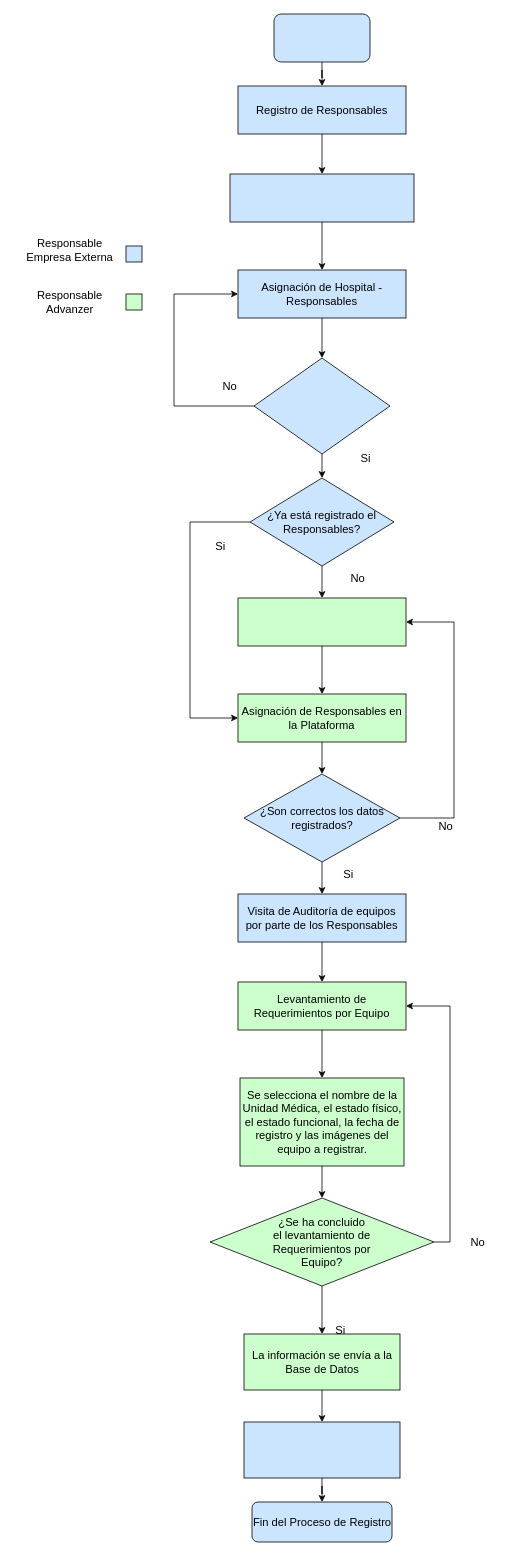
Some shapes in this 515 by 1556 pixel diagram are drawn without their labels. Here are the shapes that lost their labels. From the top down, the box of each, then its label:
(273, 13, 370, 62): Inicio del Proceso de Registro
(229, 173, 414, 222): Recepción del Documento de Oficio
(253, 357, 390, 454): ¿Ya está completa la asignación?
(237, 597, 406, 646): Registro de Responsables en la Plataforma
(243, 1421, 400, 1478): Concluye la Visita de Auditoría
